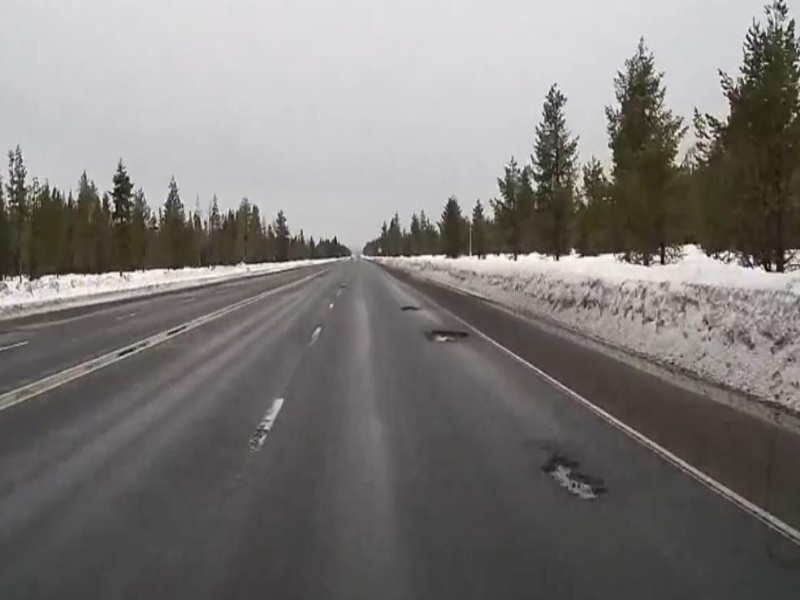pothole: (537, 447, 608, 504), (420, 326, 472, 344)
